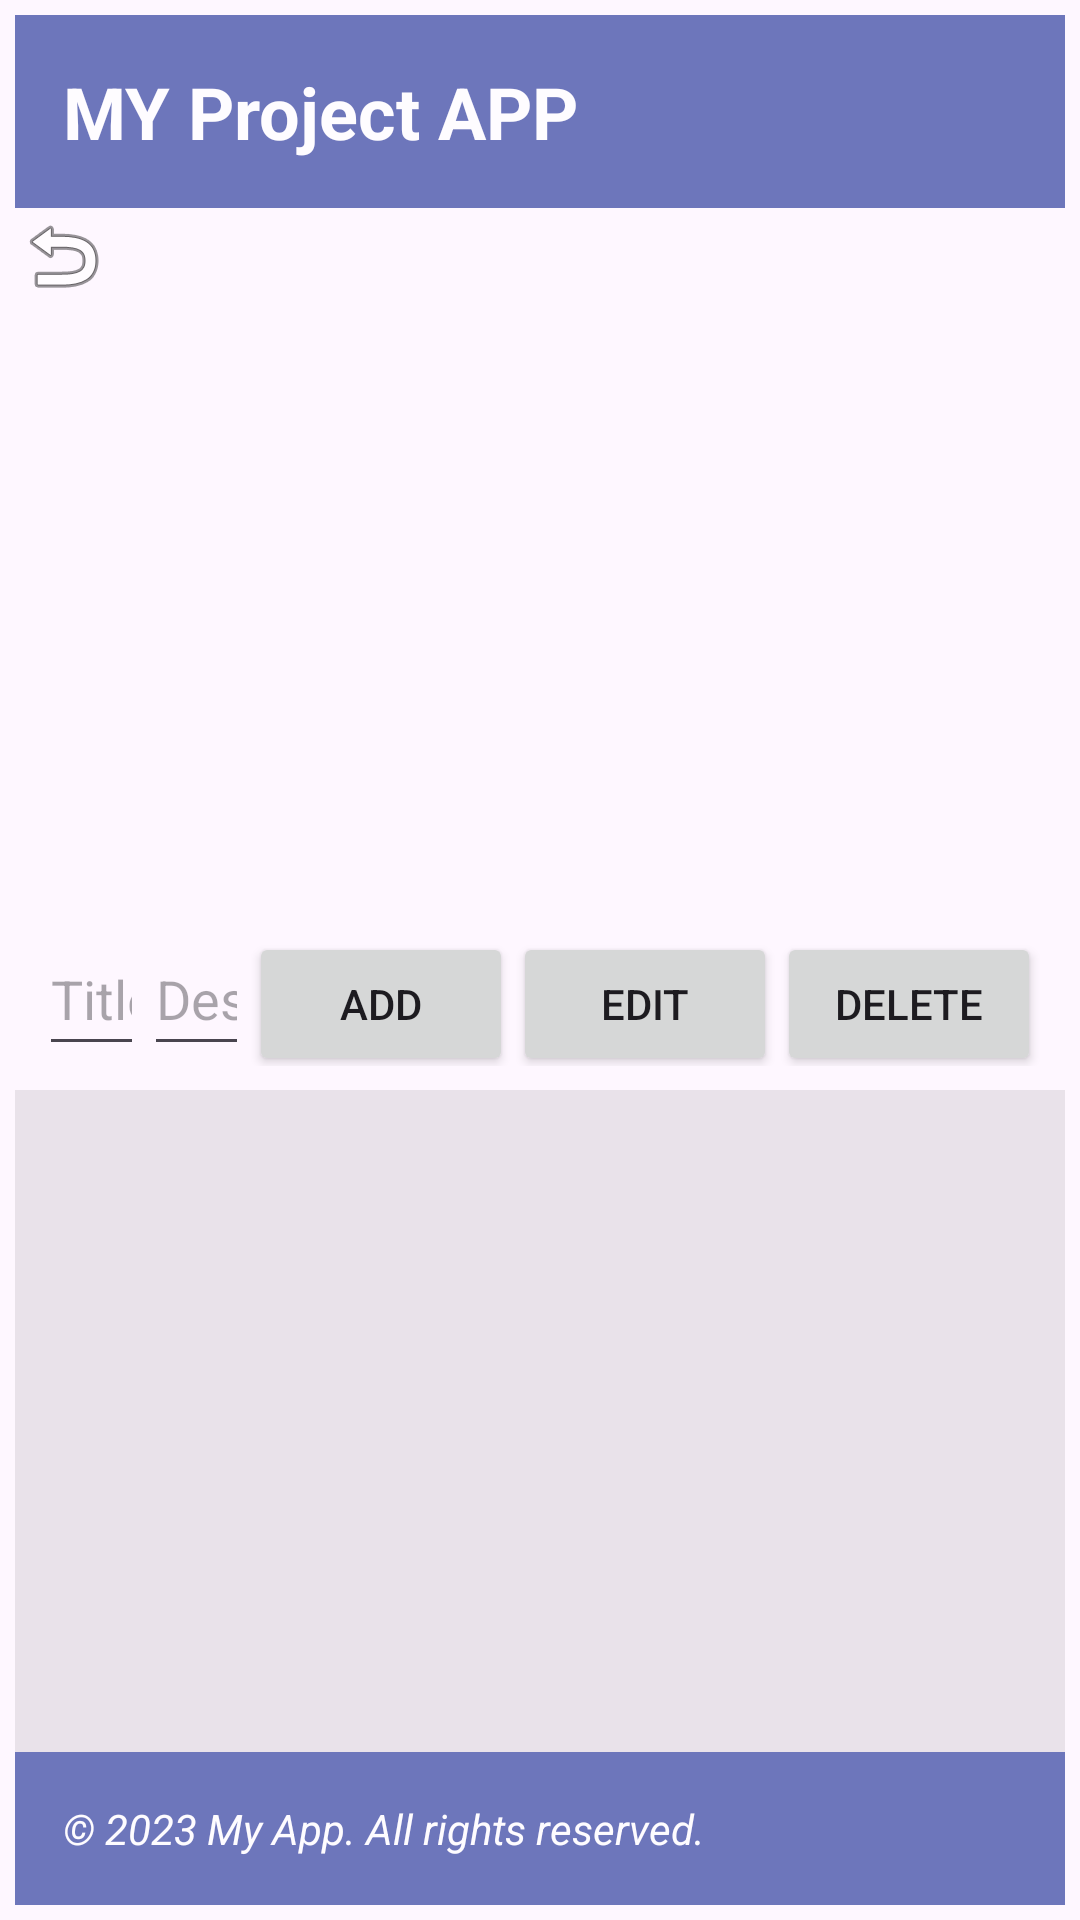

Screen size 1080px×1920px. Icon name, then its center in pixels as (x,y):
revert: (64,256)
